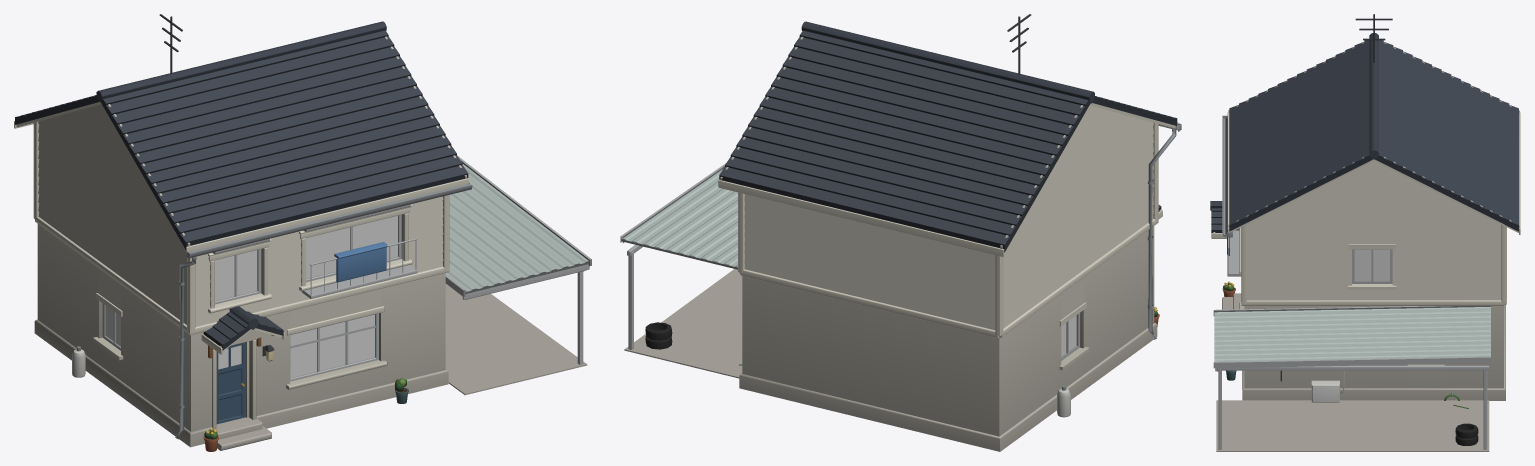
File: HouseCarport.fbx
3 renders of one model, left to right at view 1: azimuth 30°, elevation 25°; view 2: azimuth 150°, elevation 25°; view 3: azimuth 270°, elevation 25°, orthographic. The views are drawn at different scales.
Visible parts, largest first — view 1: HouseCarport; view 2: HouseCarport; view 3: HouseCarport.
Part boxes in pixels (x1,y1,x2,y2): HouseCarport: [14, 14, 591, 451]; HouseCarport: [620, 14, 1181, 451]; HouseCarport: [1210, 14, 1520, 451].
Bounding box in the file's own units: 10.53 × 9.51 × 8.36.
